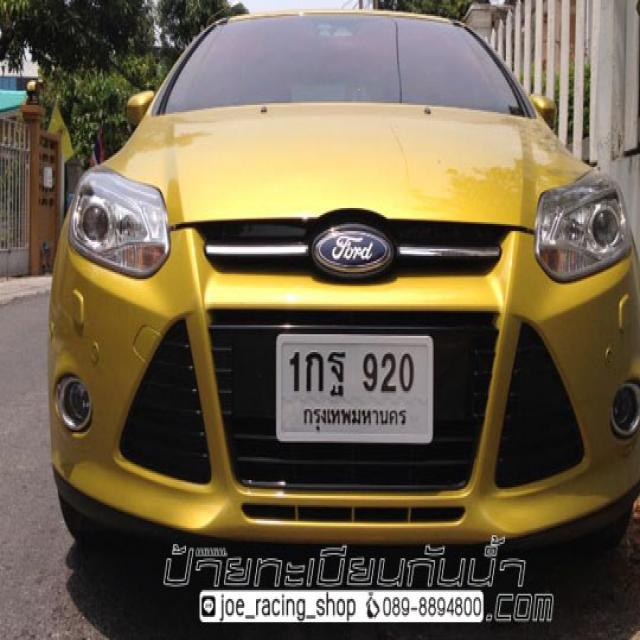license_plate: (272, 324, 439, 454)
